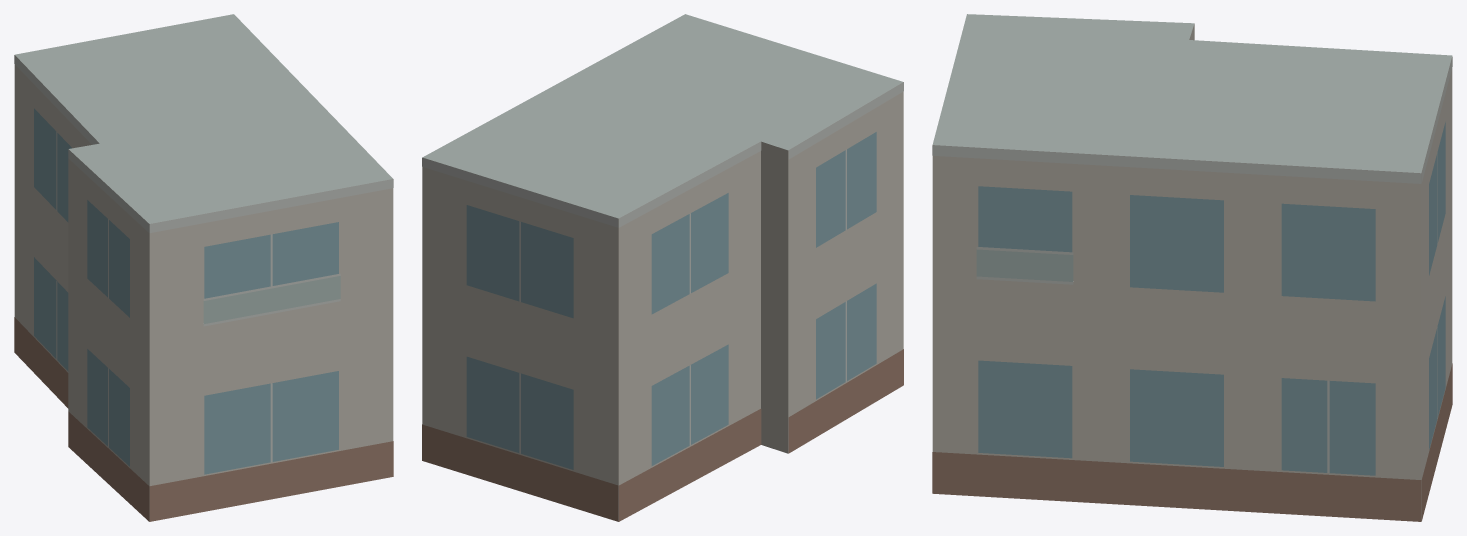
Rendered from survey-upis-32668100.glb.
3 renders of one model, left to right at view 1: azimuth 30°, elevation 25°; view 2: azimuth 150°, elevation 25°; view 3: azimuth 270°, elevation 25°, orthographic. The views are drawn at different scales.
Parts seen in each view (by area): view 1: survey-upis-32668100.tmp; view 2: survey-upis-32668100.tmp; view 3: survey-upis-32668100.tmp.
Part boxes in pixels (box(x1,y1,x2,y2)): survey-upis-32668100.tmp: box(14, 14, 393, 521); survey-upis-32668100.tmp: box(422, 14, 903, 521); survey-upis-32668100.tmp: box(932, 14, 1452, 521).
Size of the model in its own units: 7.75 by 7.9 by 10.69.
